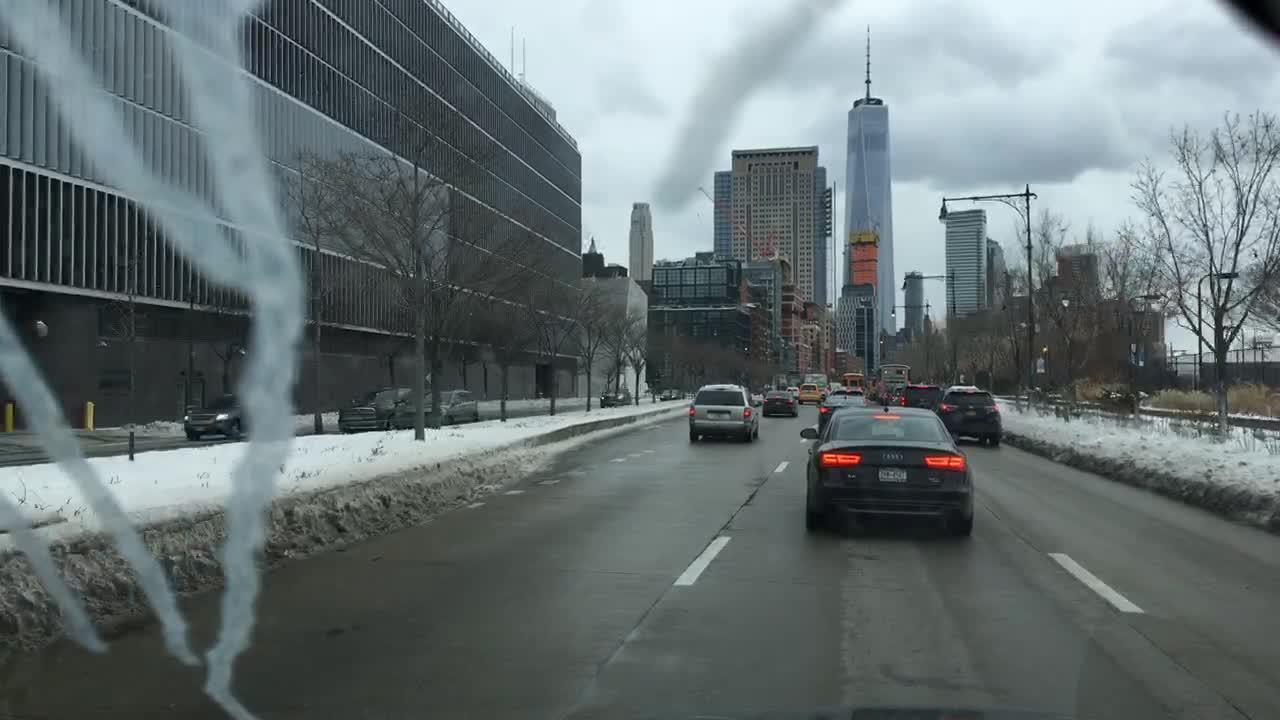Audi: (877, 448, 911, 463)
